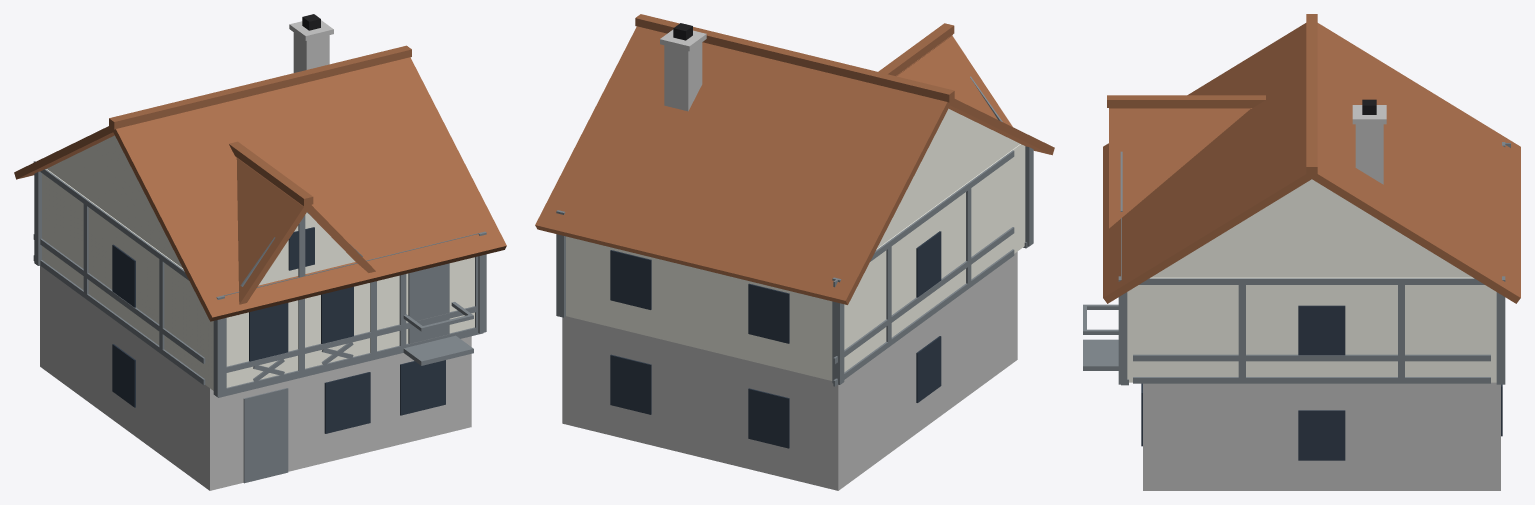
File: generated.timber_house.gltf
3 views of the same model, side by side, from view 1: azimuth 30°, elevation 25°; view 2: azimuth 150°, elevation 25°; view 3: azimuth 270°, elevation 25° (orthographic). The views are drawn at different scales.
Parts seen in each view (by area): view 1: timber_house; view 2: timber_house; view 3: timber_house.
Part boxes in pixels (box(x1,y1,x2,y2)): timber_house: box(14, 14, 506, 490); timber_house: box(535, 14, 1054, 490); timber_house: box(1083, 14, 1520, 490).
Bounding box in the file's own units: 9.1 × 10.02 × 11.
